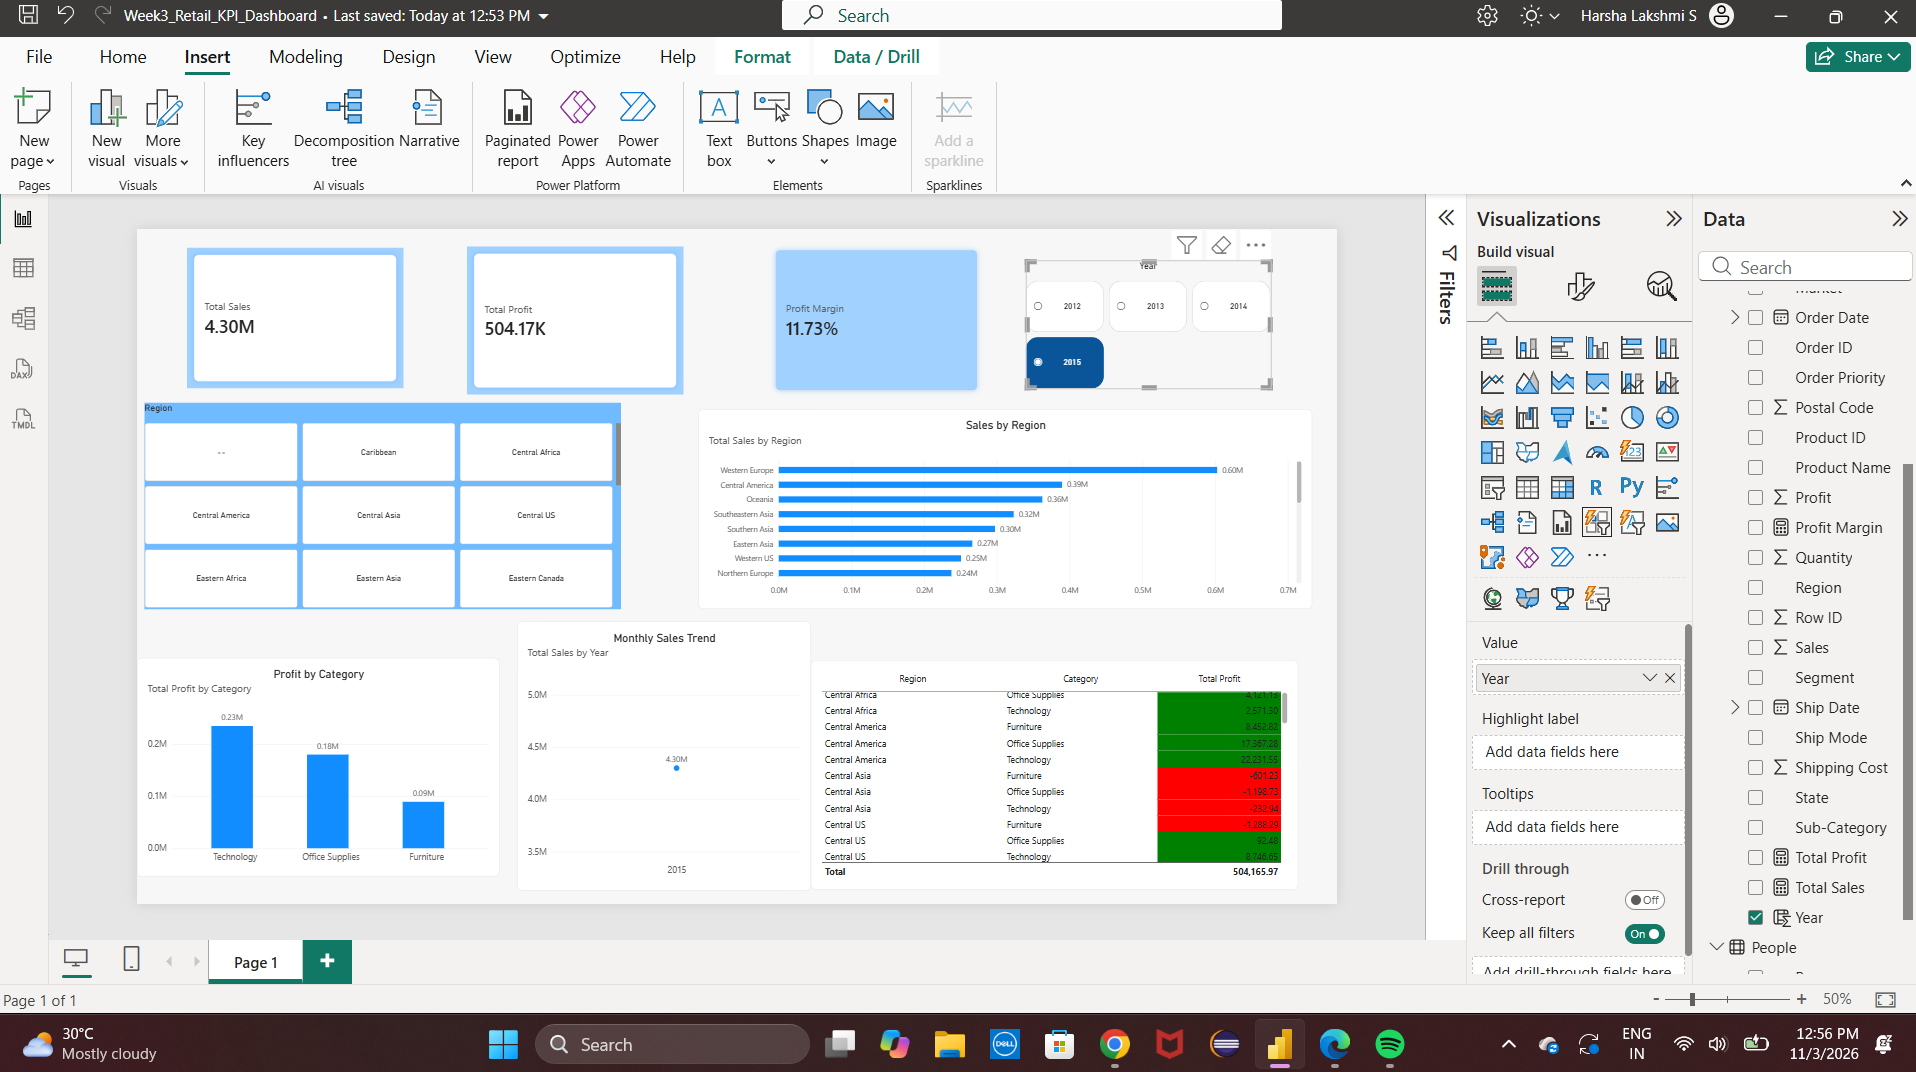

The page's visual inventory and layout, read from the dashboard file:
{"tool":"powerbi","page":{"name":"Page 1","canvas":[1920,1080],"ordinal":0},"visuals":[{"type":"cardVisual","fields":{"Data":["Orders.Total Sales"]},"box":[80,30,347,225.5],"z":0},{"type":"cardVisual","fields":{"Data":["Orders.Total Profit"]},"box":[527.5,27.5,347,237.1],"z":1},{"type":"cardVisual","fields":{"Data":["Orders.Profit Margin"]},"box":[1010,22.5,347,248.7],"z":2},{"type":"advancedSlicerVisual","fields":{"Values":["People.Region"]},"box":[12.5,277.5,762.5,330],"z":3},{"type":"advancedSlicerVisual","fields":{"Values":["Orders.Year"]},"box":[1422.5,50,392.5,205],"z":4},{"type":"clusteredBarChart","title":"Sales by Region","fields":{"Category":["People.Region"],"Y":["Orders.Total Sales"]},"box":[897.5,287.5,982.5,320],"z":5},{"type":"clusteredColumnChart","title":"Profit by Category","fields":{"Category":["Orders.Category"],"Y":["Orders.Total Profit"]},"box":[0,685,580,350],"z":6},{"type":"lineChart","title":"Monthly Sales Trend","fields":{"Category":["Orders.Order Date.Variation.Date Hierarchy.Year","Orders.Order Date.Variation.Date Hierarchy.Quarter","Orders.Order Date.Variation.Date Hierarchy.Month","Orders.Order Date.Variation.Date Hierarchy.Day"],"Y":["Orders.Total Sales"]},"box":[607.5,627.5,470,430],"z":7},{"type":"tableEx","fields":{"Values":["Orders.Region","Orders.Category","Orders.Total Profit"]},"box":[1077.5,690,780,367.5],"z":8}]}

Visuals, with their boxes on the page's 1920x1080 design canvas (x1, y1, x2, y2). These are canvas units, not pixel positions in the 1916x1072 screenshot, which may show the page scaled, cropped or inside an application window:
cardVisual - Orders.Total Sales: [left=80, top=30, right=427, bottom=256]
cardVisual - Orders.Total Profit: [left=528, top=28, right=874, bottom=265]
cardVisual - Orders.Profit Margin: [left=1010, top=22, right=1357, bottom=271]
advancedSlicerVisual - People.Region: [left=12, top=278, right=775, bottom=608]
advancedSlicerVisual - Orders.Year: [left=1422, top=50, right=1815, bottom=255]
"Sales by Region" clusteredBarChart: [left=898, top=288, right=1880, bottom=608]
"Profit by Category" clusteredColumnChart: [left=0, top=685, right=580, bottom=1035]
"Monthly Sales Trend" lineChart: [left=608, top=628, right=1078, bottom=1058]
tableEx - Orders.Region x Orders.Category: [left=1078, top=690, right=1858, bottom=1058]
